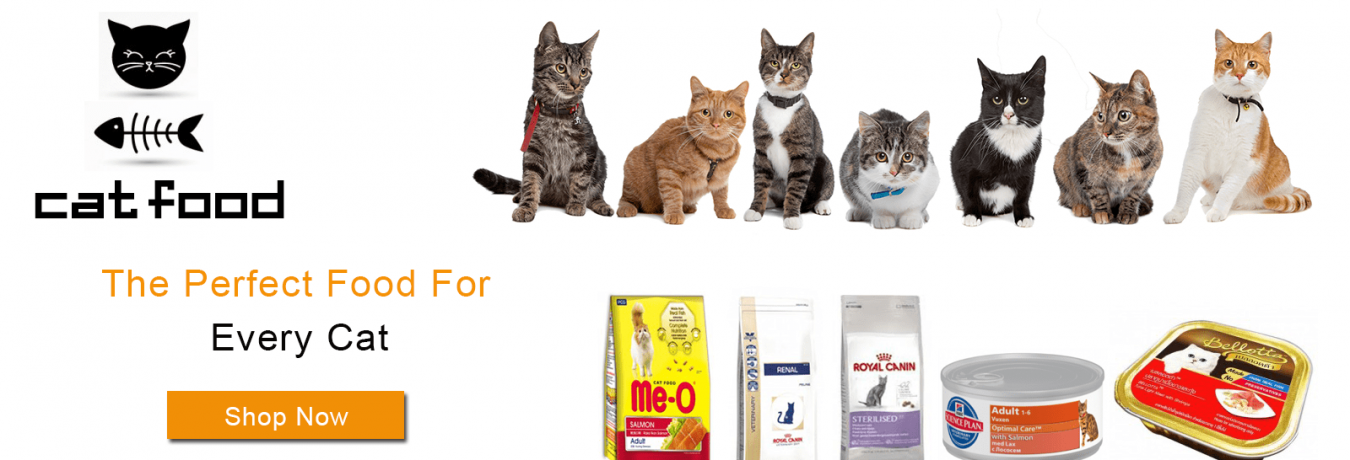cat: (1176, 30, 1316, 232), (486, 26, 616, 239), (616, 49, 747, 228), (1053, 69, 1168, 235), (750, 27, 839, 227), (950, 53, 1050, 231), (842, 90, 944, 236)
